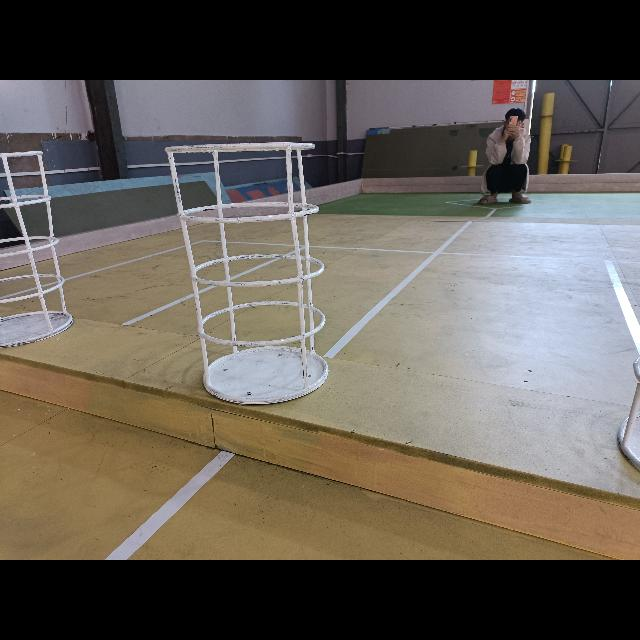S: (166, 142, 330, 406), (0, 150, 75, 348), (611, 338, 640, 471)
